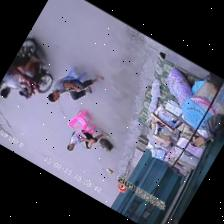person: (0, 56, 40, 97), (48, 76, 105, 101), (67, 130, 109, 150), (0, 124, 2, 134)
